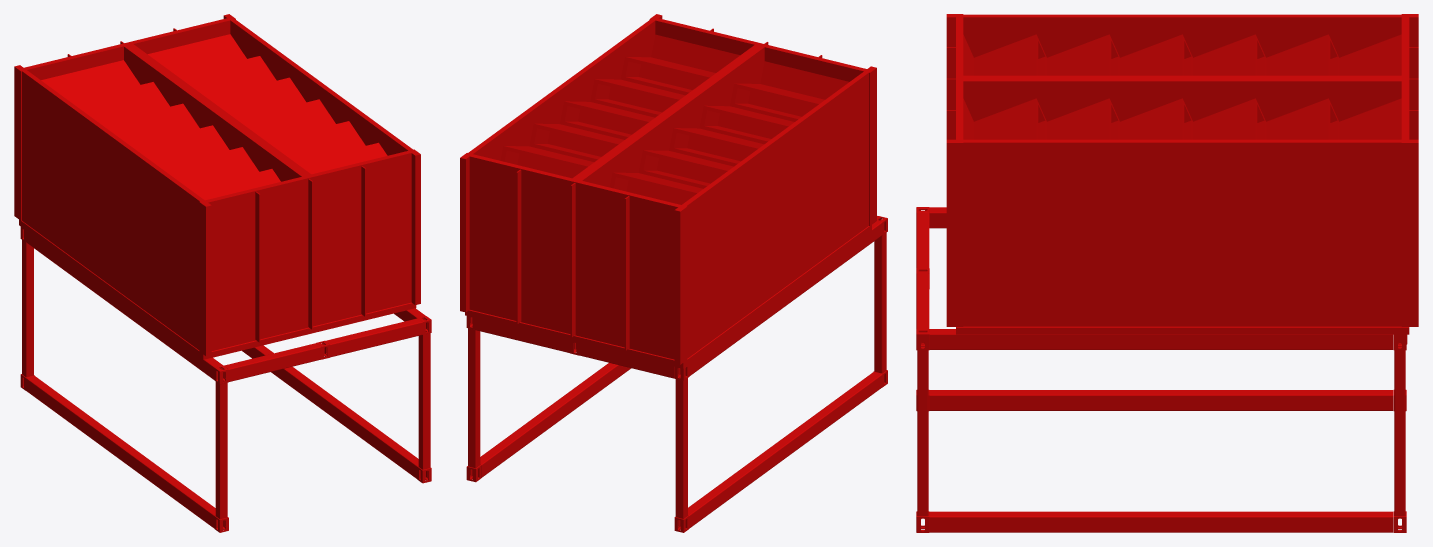
3 renders of one model, left to right at view 1: azimuth 30°, elevation 25°; view 2: azimuth 150°, elevation 25°; view 3: azimuth 270°, elevation 25°, orthographic. The views are drawn at different scales.
Parts seen in each view (by area): view 1: Mesh; view 2: Mesh; view 3: Mesh.
Boxes of the visible parts, box(x1,y1,x2,y2) form: Mesh: box(14, 14, 431, 532); Mesh: box(460, 14, 887, 532); Mesh: box(916, 14, 1418, 532).
Bounding box in the file's own units: 3.34 × 4.72 × 5.5.
